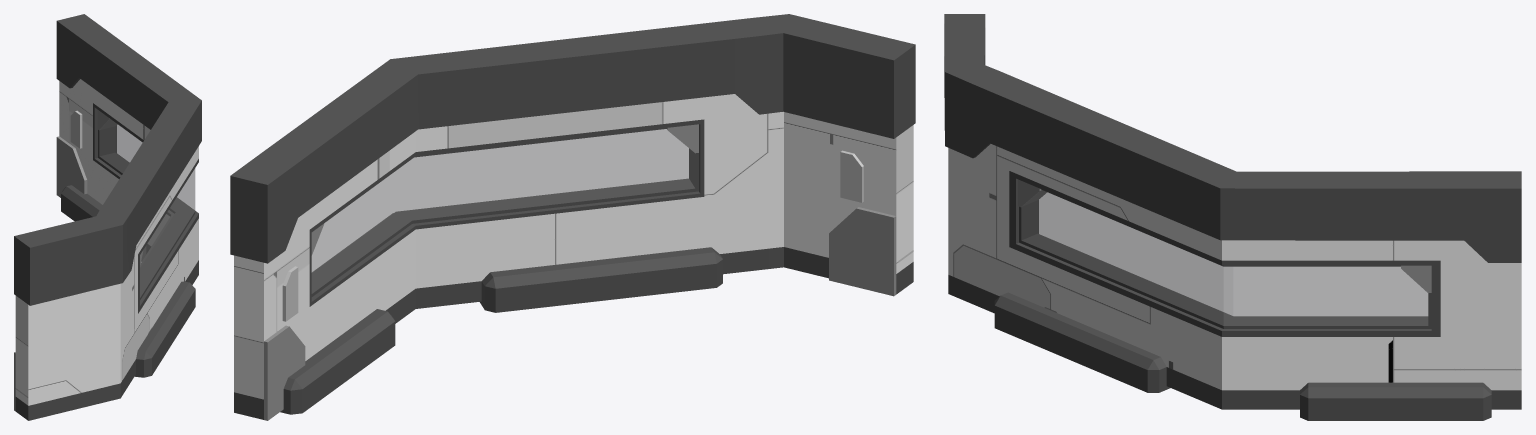
Rendered from SM_Wall_7x3_Corner_Window_1.fbx.
The picture shows the model from 3 angles, left to right: view 1: azimuth 30°, elevation 25°; view 2: azimuth 150°, elevation 25°; view 3: azimuth 270°, elevation 25°; orthographic projection. The views are drawn at different scales.
Parts seen in each view (by area): view 1: SM_Wall_7x3_Corner_Window_1; view 2: SM_Wall_7x3_Corner_Window_1; view 3: SM_Wall_7x3_Corner_Window_1.
Boxes of the visible parts, box(x1,y1,x2,y2) form: SM_Wall_7x3_Corner_Window_1: box(14, 14, 201, 420); SM_Wall_7x3_Corner_Window_1: box(230, 14, 915, 420); SM_Wall_7x3_Corner_Window_1: box(944, 14, 1521, 420).
Size of the model in its own units: 523 by 305 by 705.
